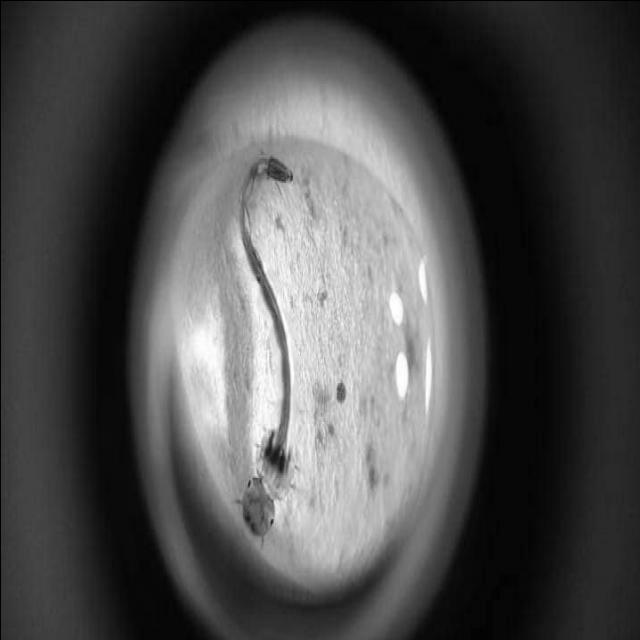larvas: (235, 162, 303, 533)
